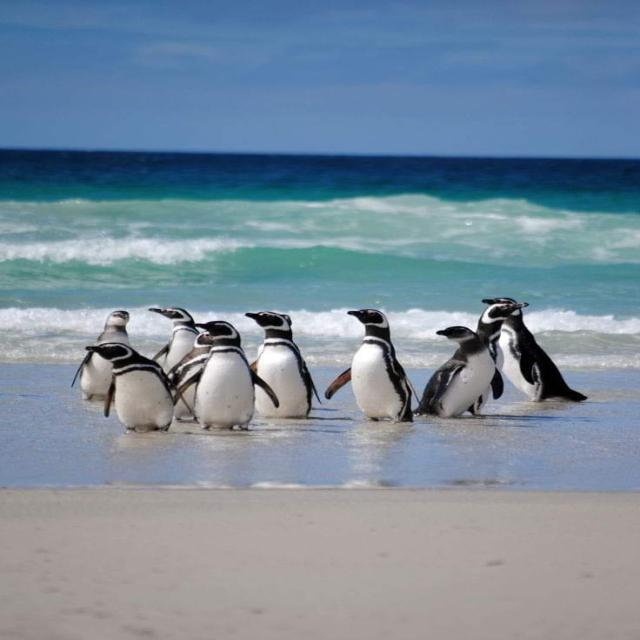Penguins: (481, 304, 579, 411), (338, 304, 418, 426), (83, 343, 180, 431), (239, 310, 309, 429), (189, 319, 248, 452), (422, 325, 499, 423), (142, 300, 205, 413), (85, 308, 138, 402)
